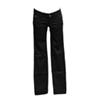jeans: (34, 9, 66, 94)
